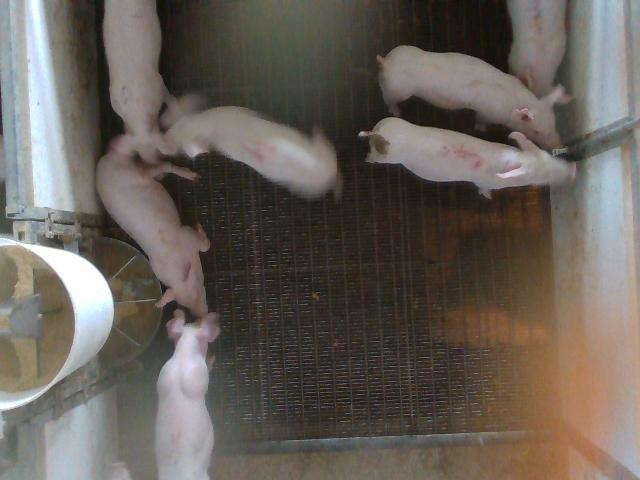pig-4: (165, 106, 341, 197)
pig-5: (360, 118, 575, 197)
